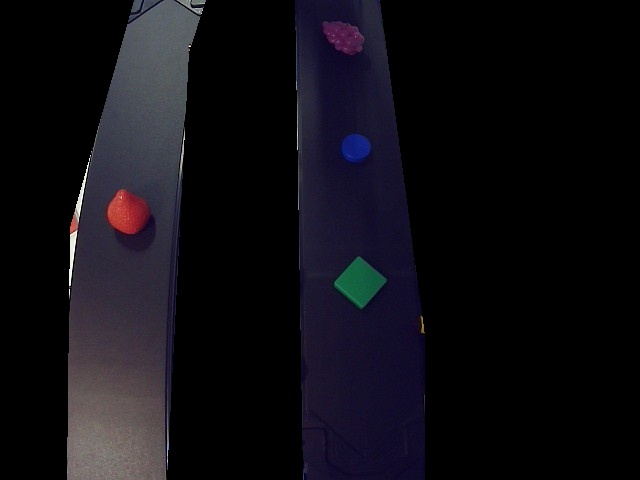Blue_Circle: (343, 131, 373, 164)
Green_Square: (334, 254, 390, 306)
Unknown: (103, 187, 154, 237), (323, 18, 369, 60)
